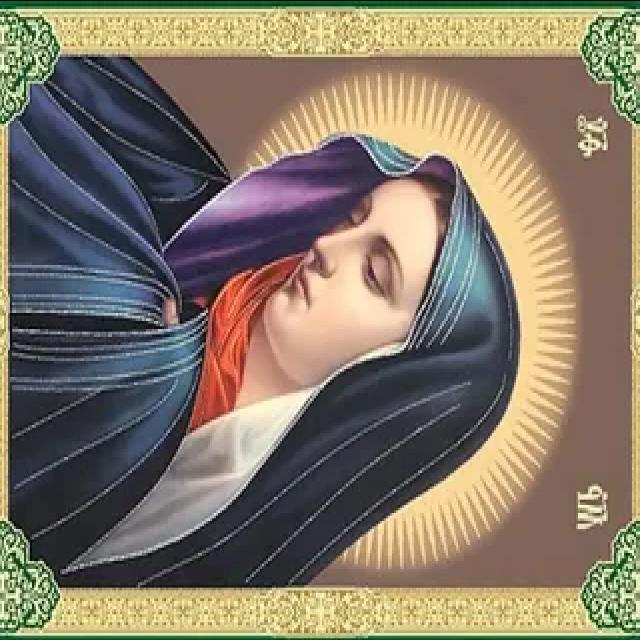mother of god: (11, 49, 527, 589)
